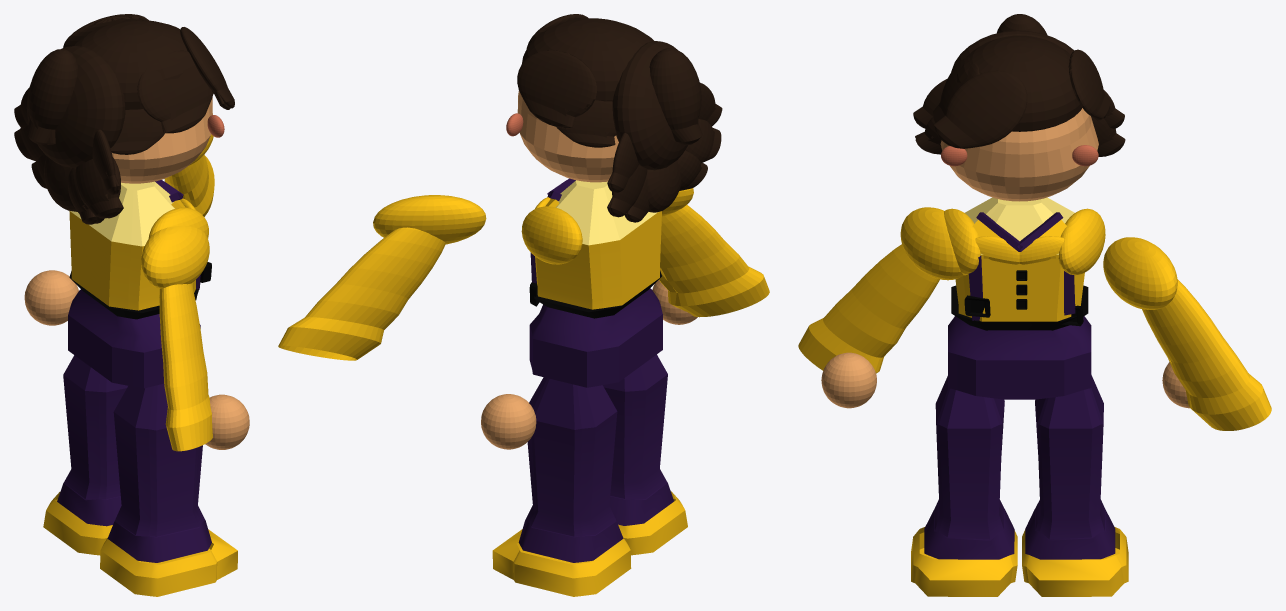
File: playerfbx.fbx
The picture shows the model from 3 angles, left to right: view 1: azimuth 30°, elevation 25°; view 2: azimuth 150°, elevation 25°; view 3: azimuth 270°, elevation 25°; orthographic projection.
Visible parts, largest first — view 1: Cube.003, Sphere.023, Cube.004, Cube.002, Sphere.003, Cube.001, Sphere.011, Sphere.030, Sphere.026, Sphere.010, Sphere.022, Sphere.025 (+14 smaller); view 2: Cube.003, Sphere.023, Cube.002, Cube.001, Cube.004, Sphere.003, Sphere.011, Sphere.030, Sphere.022, Sphere, Sphere.025, Sphere.010 (+11 smaller); view 3: Cube.003, Sphere.023, Cube.002, Cube.004, Sphere, Sphere.022, Cube.001, Sphere.008, Sphere.030, Sphere.010, Sphere.024, Sphere.026 (+13 smaller).
Boxes of the visible parts, x1,y1,x2,y2 form: Cube.003: (57,355,211,562); Sphere.023: (159,154,214,451); Cube.004: (43,492,237,596); Cube.002: (68,289,200,388); Sphere.003: (26,46,125,168); Cube.001: (69,211,195,310); Sphere.011: (63,14,213,133); Sphere.030: (74,20,187,109); Sphere.026: (24,270,249,449); Sphere.010: (75,23,186,109); Sphere.022: (141,134,213,288); Sphere.025: (27,49,77,144); Cube.003: (518,354,673,562); Sphere.023: (278,205,769,360); Cube.002: (529,288,662,387); Cube.001: (535,211,661,309); Cube.004: (492,491,687,596); Sphere.003: (612,41,687,170); Sphere.011: (517,50,596,128); Sphere.030: (522,18,653,101); Sphere.022: (373,188,693,244); Sphere: (517,91,618,182); Sphere.025: (649,48,702,145); Sphere.010: (522,24,649,101); Cube.003: (924,375,1115,559); Sphere.023: (798,244,1271,430); Cube.002: (948,316,1091,399); Cube.004: (911,527,1128,596); Sphere: (941,109,1098,201); Sphere.022: (900,207,1177,309); Cube.001: (955,254,1084,321); Sphere.008: (934,70,1027,148); Sphere.030: (957,35,1077,131); Sphere.010: (957,49,1081,131); Sphere.024: (944,208,1105,275); Sphere.026: (821,352,1189,408).
Size of the model in its own units: 431 by 715 by 587.
